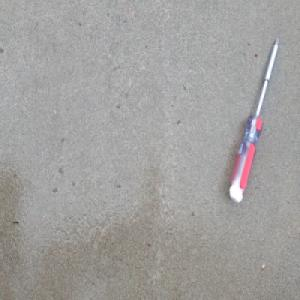Screwdriver: (227, 34, 281, 206)
